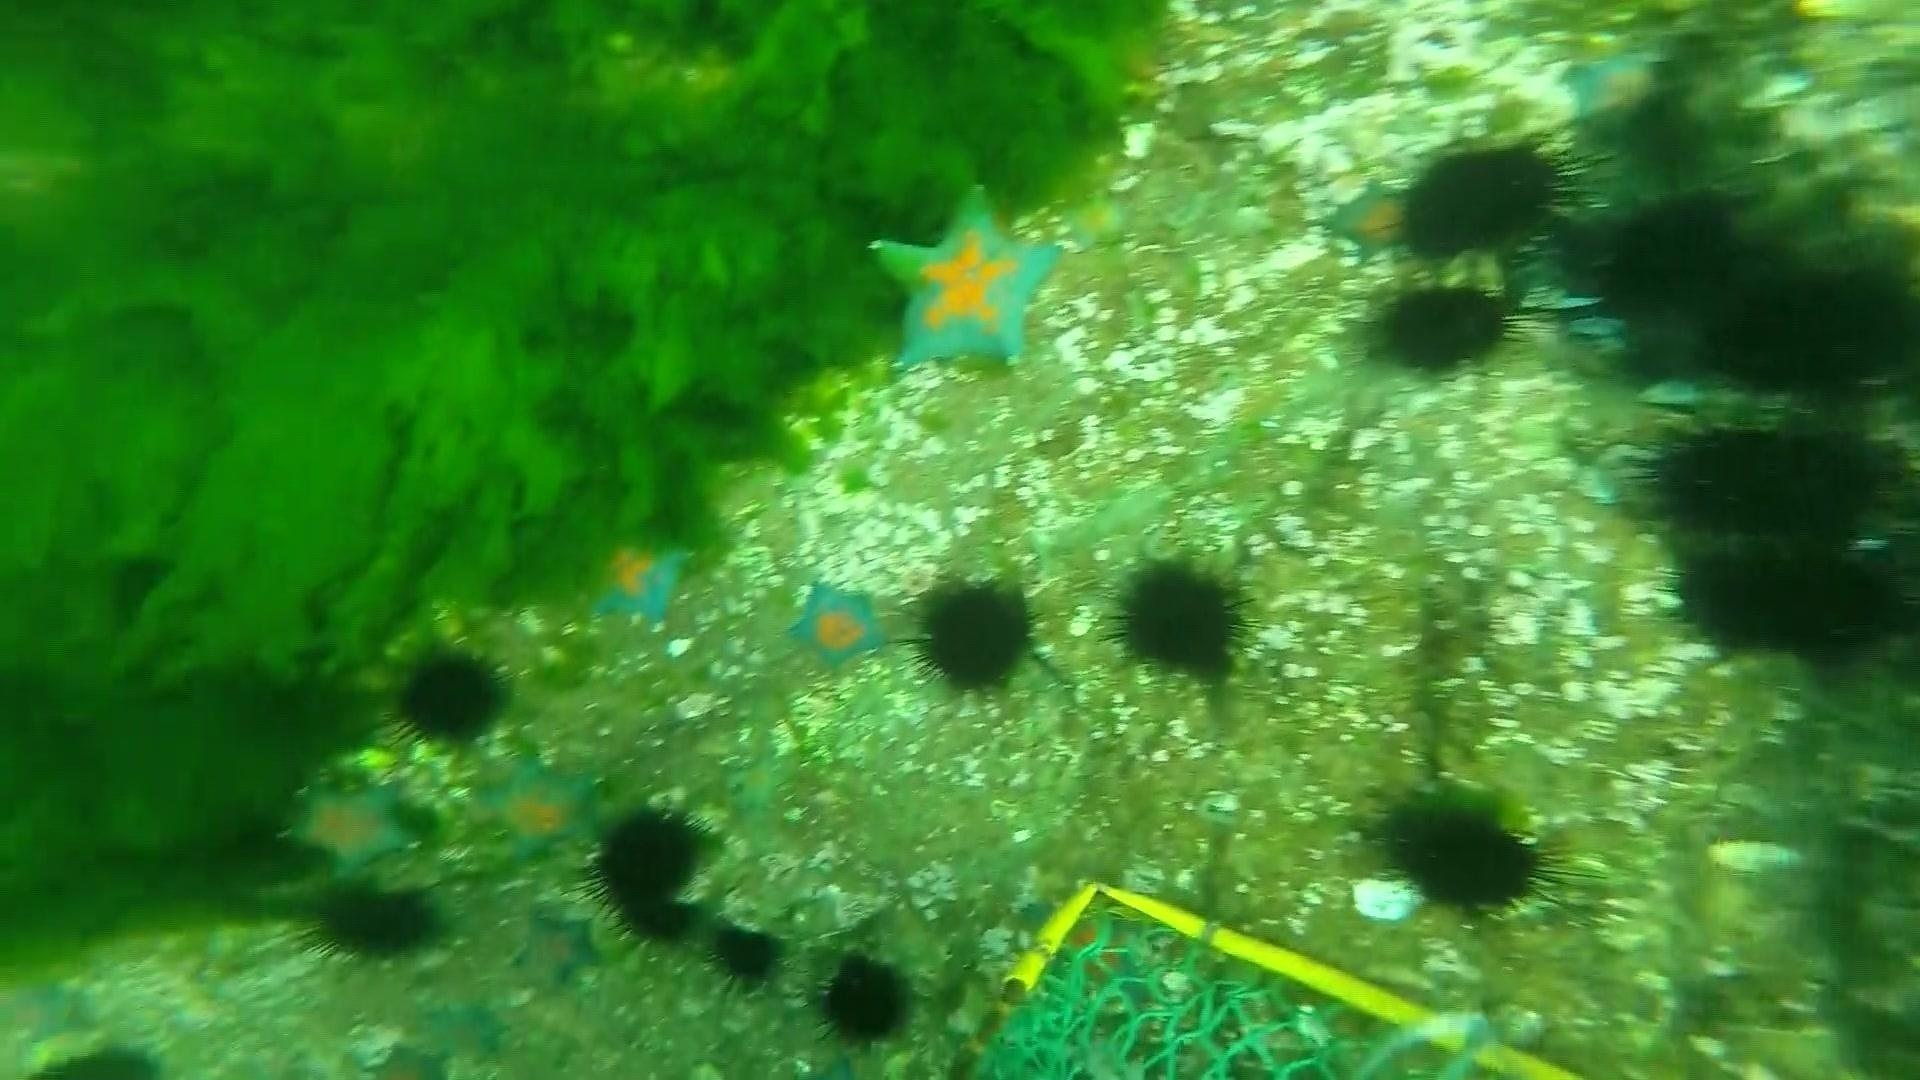echinus: (1633, 415, 1894, 545), (1667, 533, 1902, 665), (1705, 258, 1912, 401), (1370, 785, 1563, 920), (1390, 133, 1578, 262), (1102, 553, 1258, 683), (1594, 190, 1745, 314), (582, 800, 713, 938), (906, 576, 1042, 702), (1364, 277, 1524, 378), (295, 876, 446, 968), (388, 642, 512, 752), (810, 948, 916, 1052), (1617, 88, 1716, 187), (703, 919, 787, 993)
holothurian: (1398, 562, 1506, 775)
starfish: (865, 193, 1067, 377), (471, 754, 611, 866), (280, 774, 419, 882), (579, 529, 698, 634), (781, 578, 895, 679), (1556, 44, 1672, 142), (506, 905, 607, 1000), (1, 963, 94, 1065), (402, 996, 514, 1071), (1319, 179, 1416, 264)
